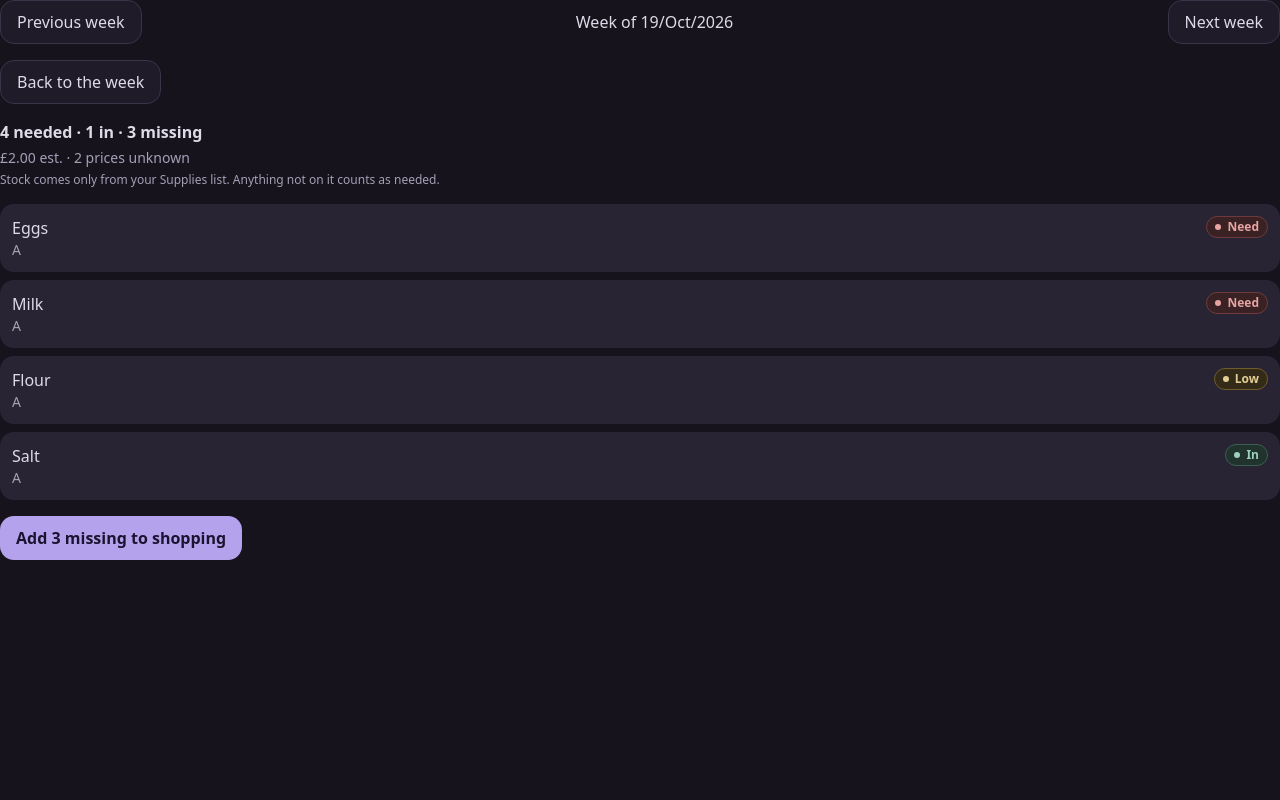
it: IngredientsNeeded › asks for confirmation listing the missing items before adding
Click the button "Add 3 missing to shopping" at (121, 538), box [0,516,242,560]
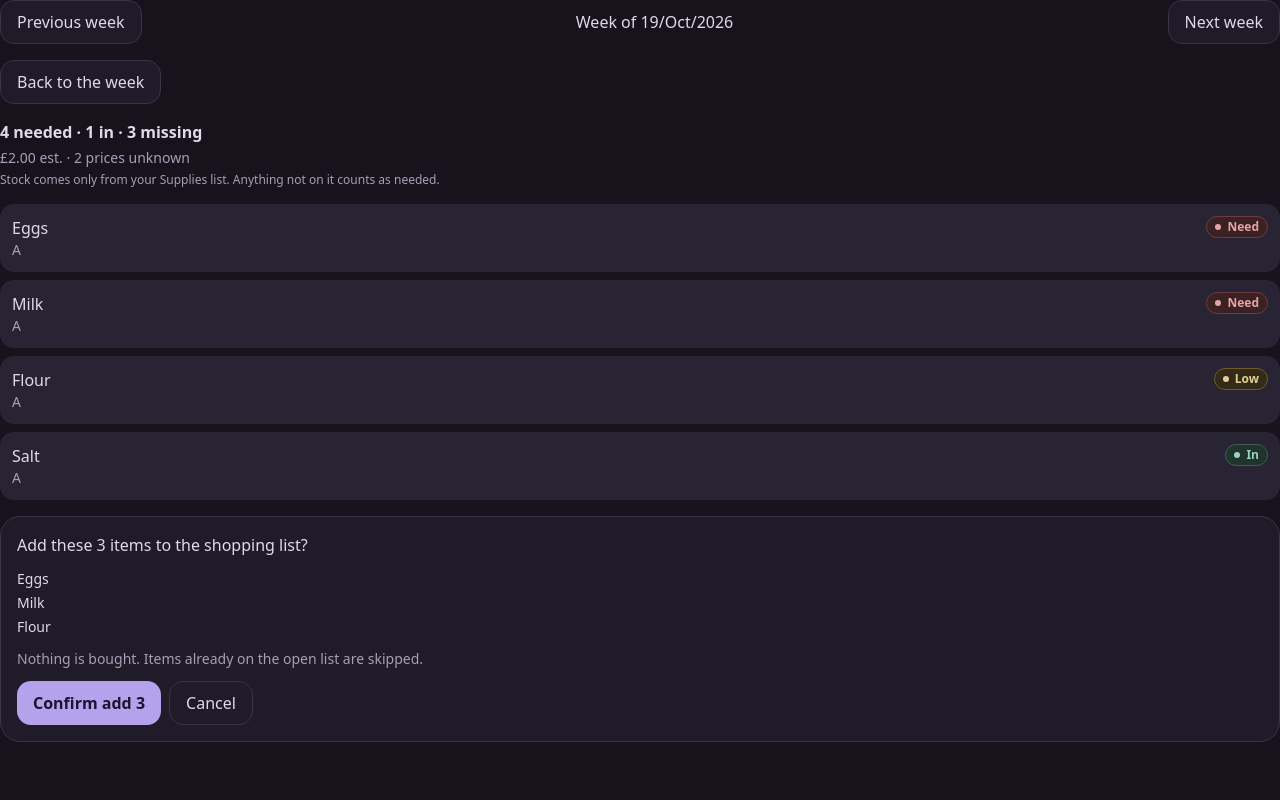
Expected: the list item "Eggs" is shown, [17,569,49,588]
Expected: the button "Confirm add 3" is shown, [17,681,161,725]
Click the button "Cancel" at (211, 703), box [169,681,253,725]
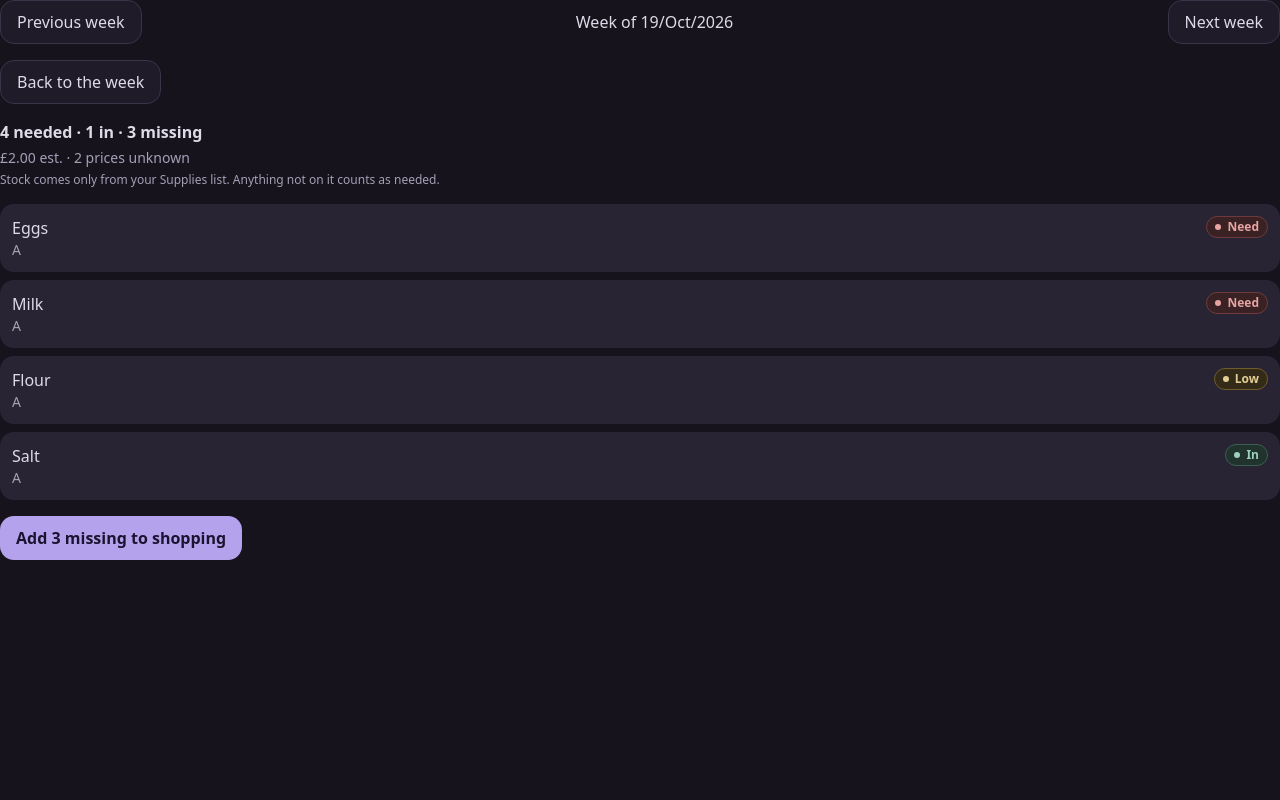
Expected: the dialog is gone
